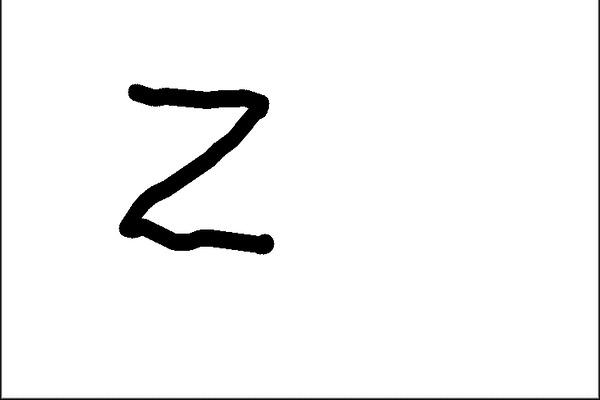Z: (112, 67, 288, 264)
